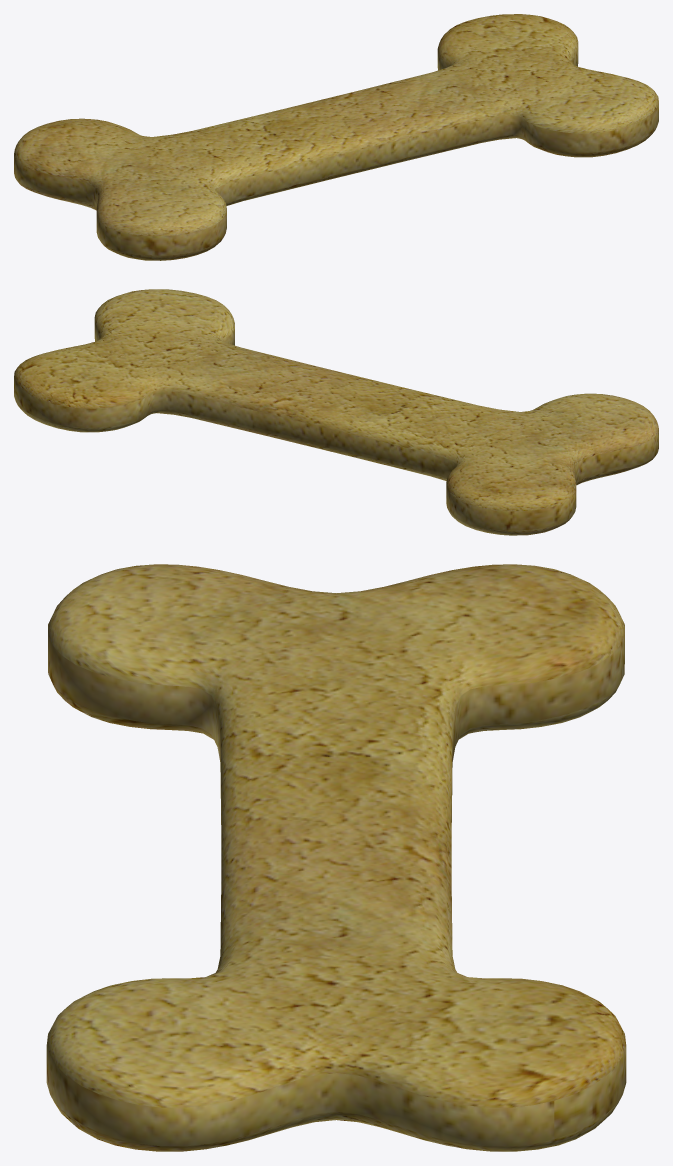
The model's file is bone.fbx.
The picture shows the model from 3 angles, top to bottom: view 1: azimuth 30°, elevation 25°; view 2: azimuth 150°, elevation 25°; view 3: azimuth 270°, elevation 25°; orthographic projection. The views are drawn at different scales.
Visible parts, largest first — view 1: bone; view 2: bone; view 3: bone.
Part boxes in pixels (x1=…): bone: x1=14, y1=14, x2=658, y2=260; bone: x1=14, y1=289, x2=658, y2=535; bone: x1=46, y1=564, x2=626, y2=1151.
Bounding box in the file's own units: 1.07 × 0.0743 × 0.4879.
